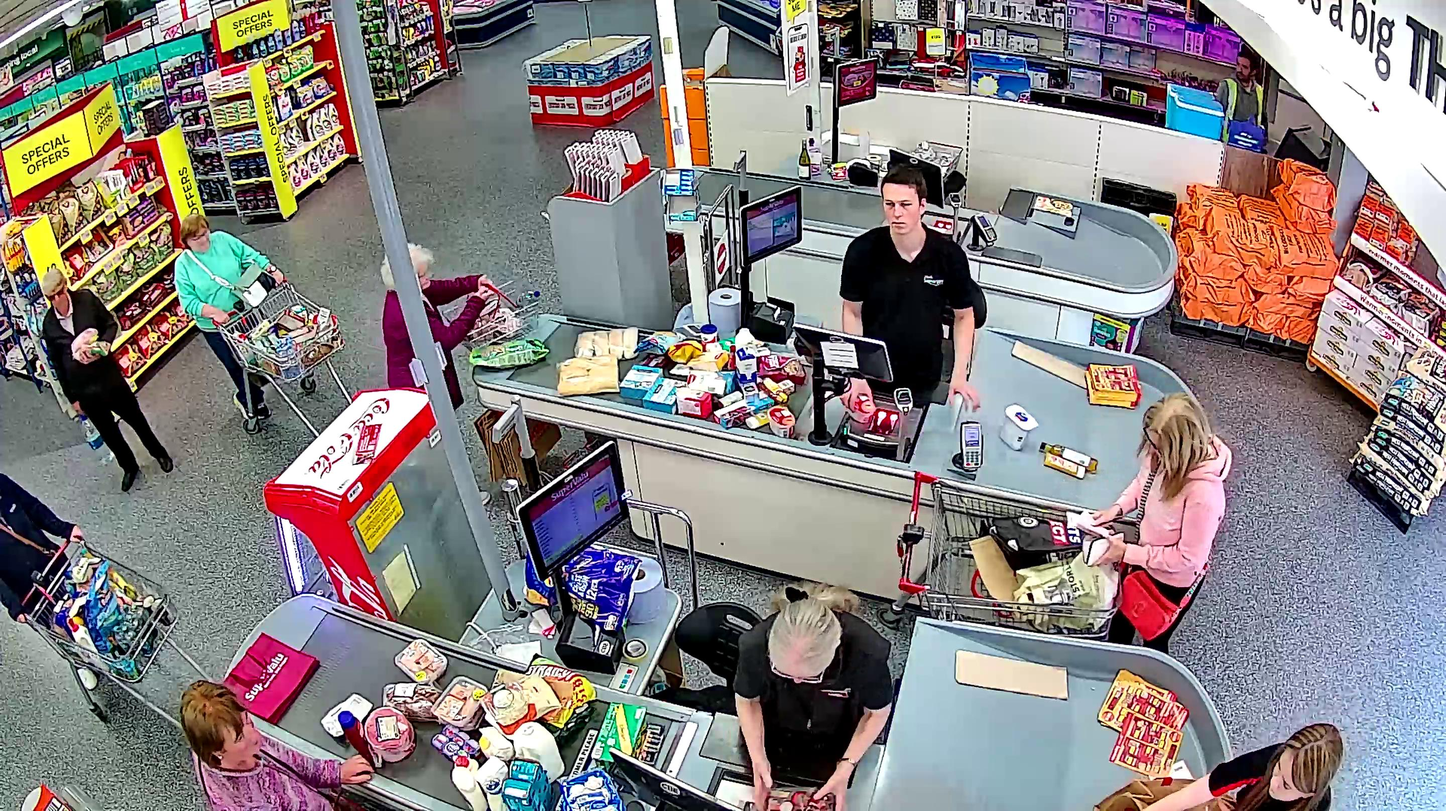backpack-or-handbag: (231, 261, 277, 308)
carrying-item: (77, 412, 114, 464), (69, 326, 110, 363)
filled-trolly: (16, 526, 214, 746), (212, 275, 347, 433)
occupied-checkout-counter: (511, 435, 916, 807), (726, 183, 997, 490)
person: (42, 268, 174, 491), (0, 472, 103, 691), (176, 213, 284, 419)
person-with-basket-trolly-and-backpack-handbag: (176, 212, 348, 432)
person-with-carrying-item: (42, 268, 174, 490)
person-with-filled-basket-trolly: (1, 471, 214, 746)
vacant-checkout-counter: (828, 44, 1023, 262)
